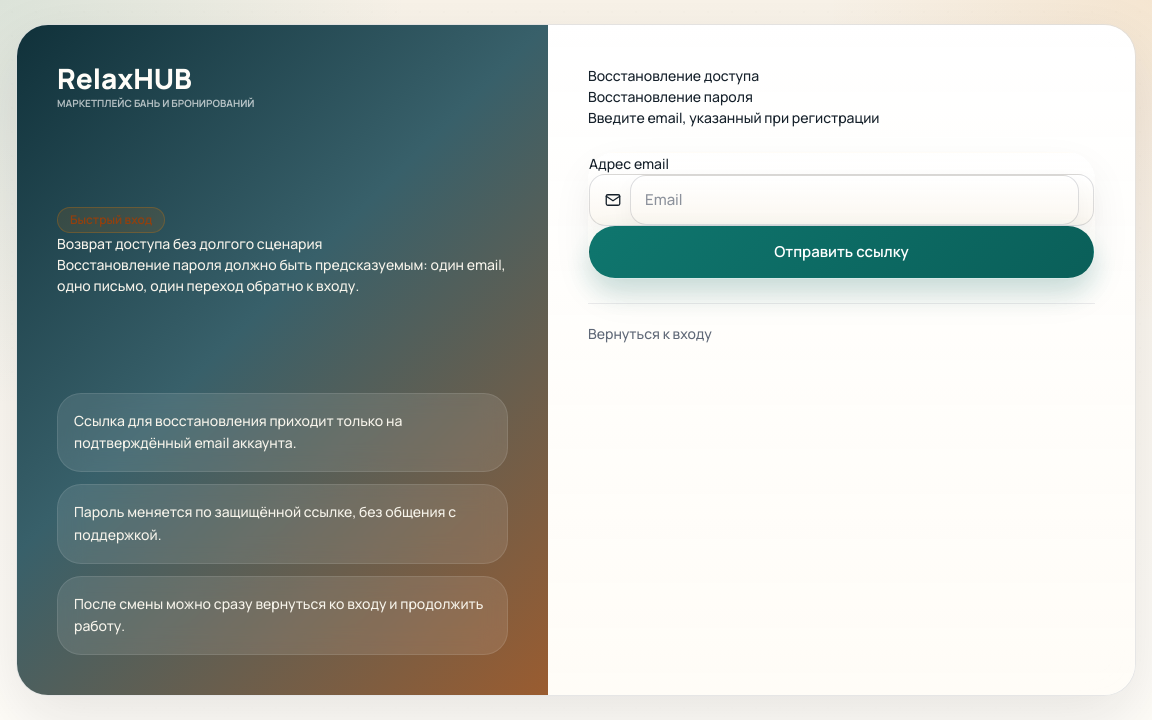
Scenario: ForgotPassword page › shows success message after sending
In the field with placeholder "email": {"x": 854, "y": 200} [630, 175, 1079, 225], type "test@example.com"
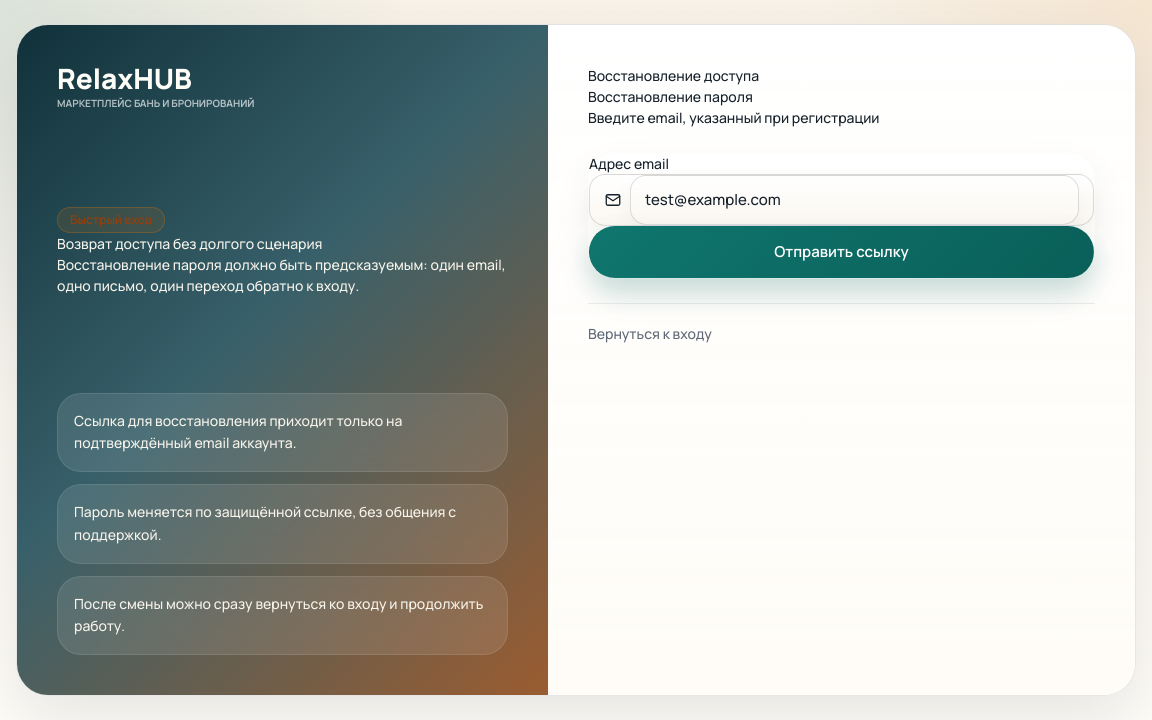
Click the button "Отправить ссылку": {"x": 841, "y": 252} [589, 226, 1094, 278]
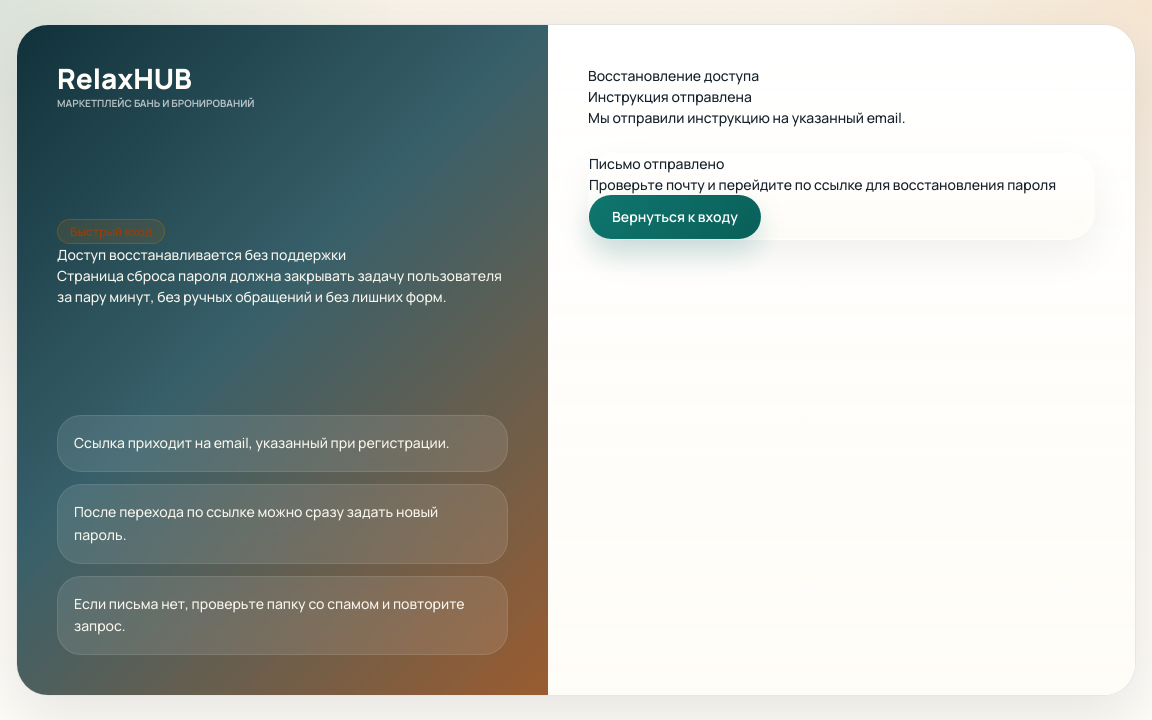
Now the text "Письмо отправлено" is shown, box [589, 154, 724, 173]
